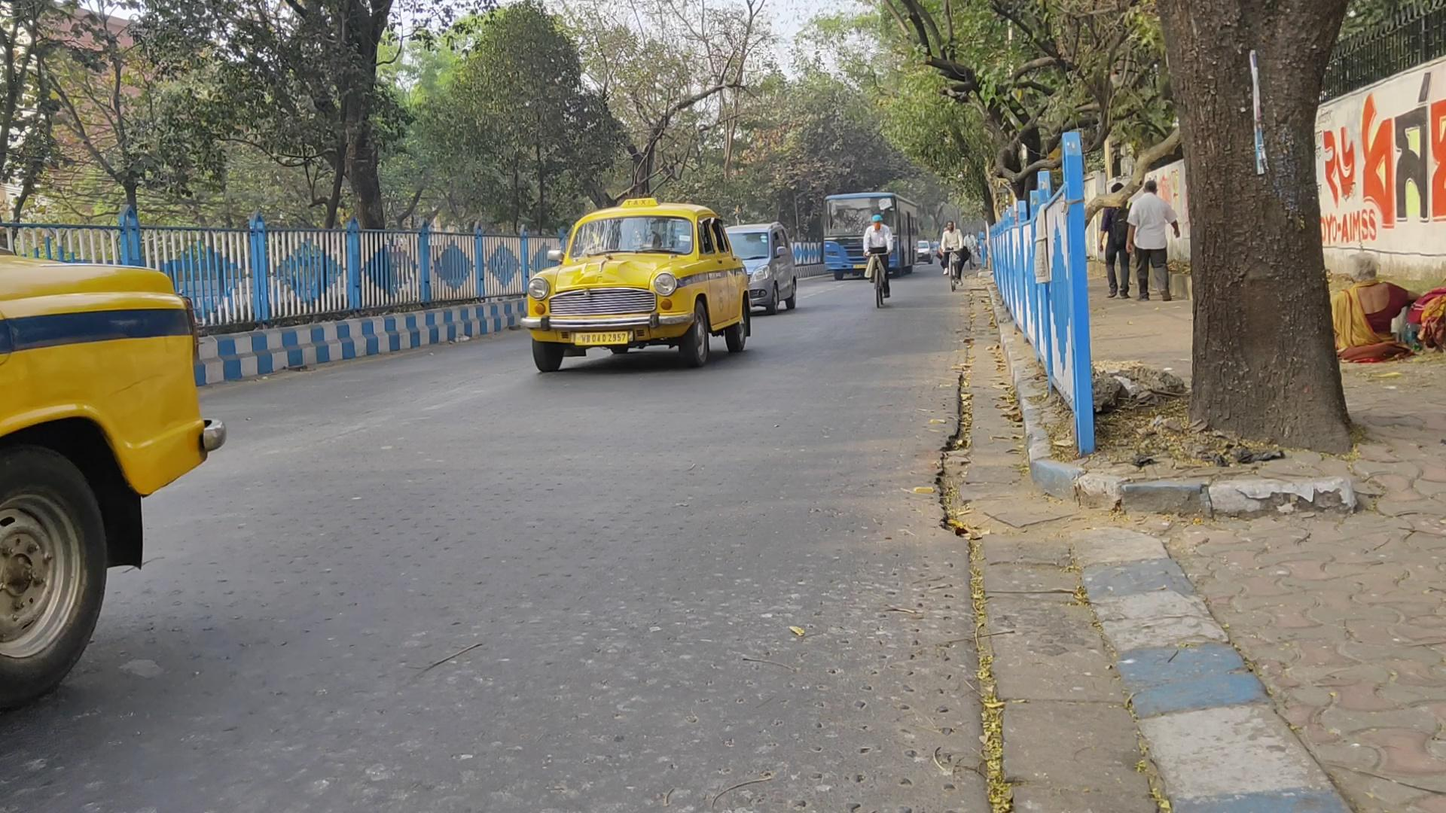Bus: (822, 193, 920, 285)
bike: (863, 214, 892, 308), (939, 220, 969, 292)
car: (526, 199, 752, 373), (725, 223, 798, 315)
